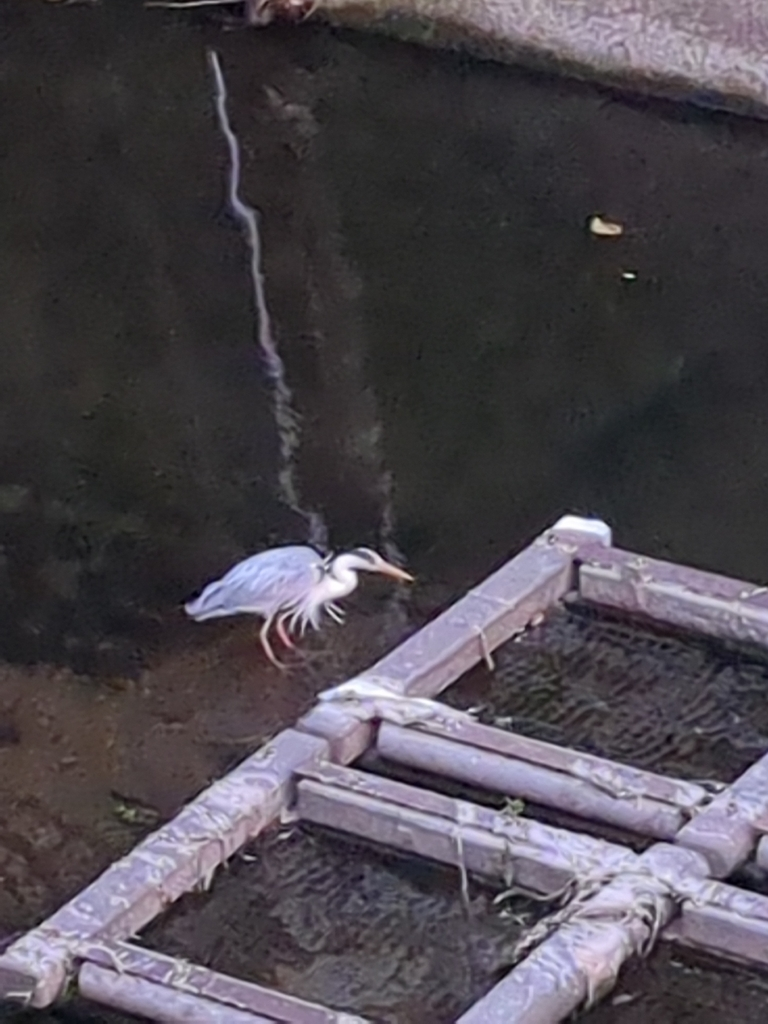heron: (169, 545, 413, 675)
